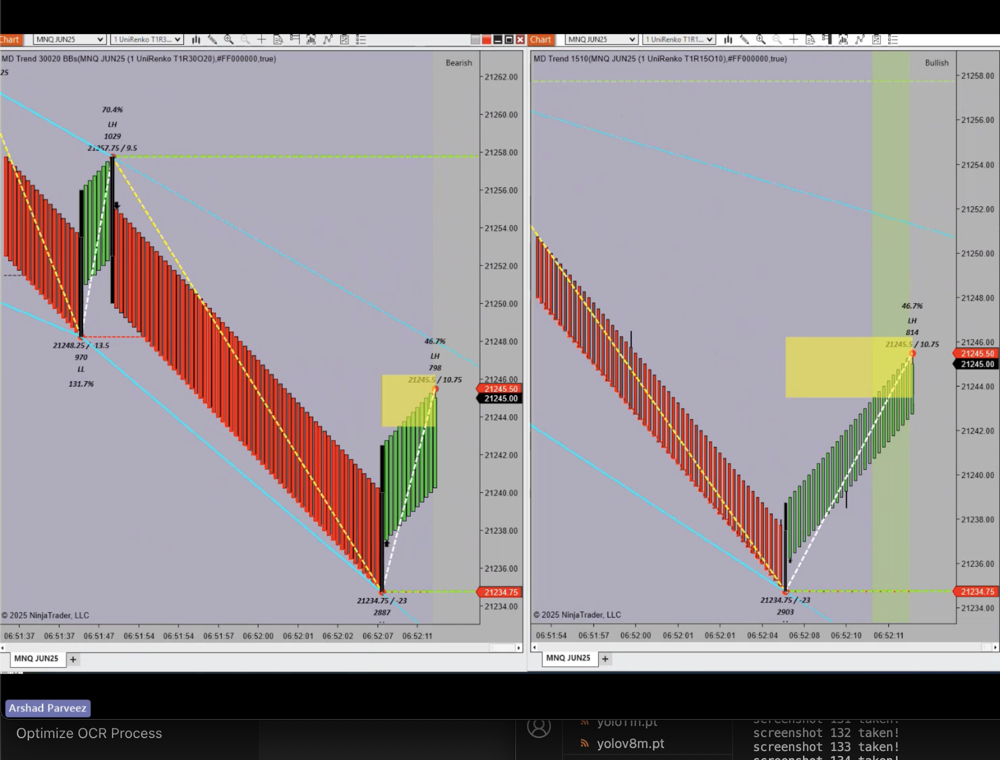LH: (900, 311, 928, 331), (103, 115, 127, 133), (423, 347, 447, 363)
LL: (69, 360, 93, 383)
